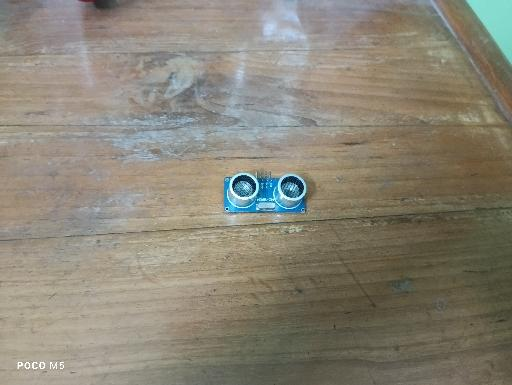sensor: (223, 170, 307, 215)
